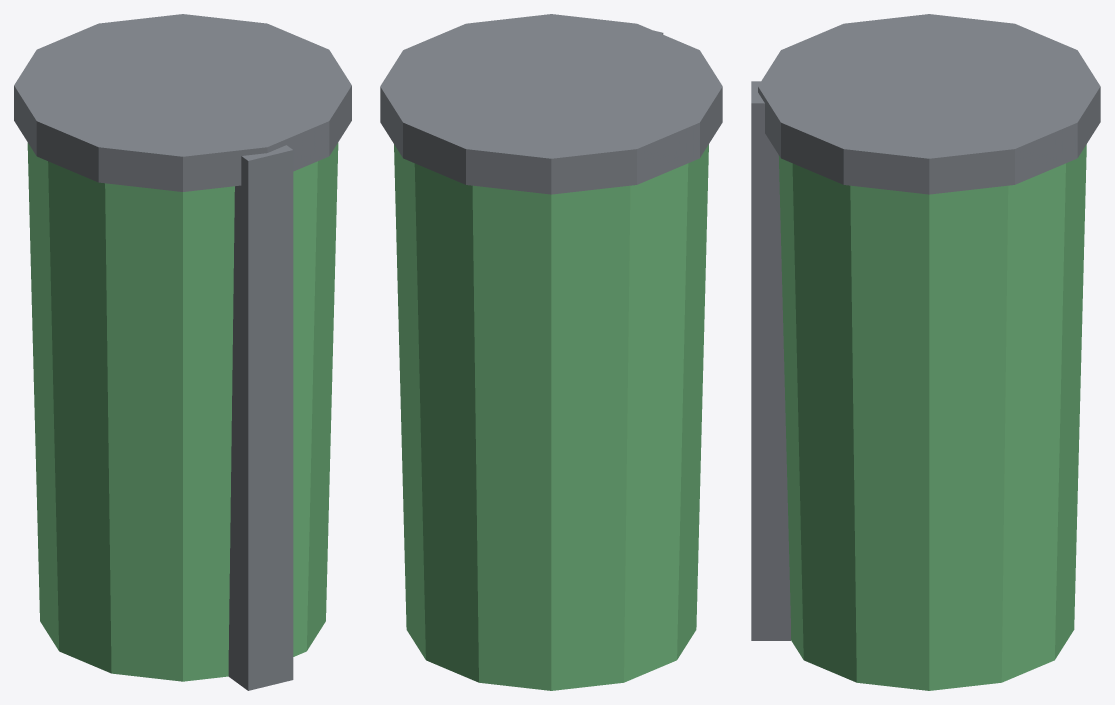
Rendered from public_bin.glb.
3 views of the same model, side by side, from view 1: azimuth 30°, elevation 25°; view 2: azimuth 150°, elevation 25°; view 3: azimuth 270°, elevation 25° (orthographic).
Visible parts, largest first — view 1: public_bin; view 2: public_bin; view 3: public_bin.
Part boxes in pixels (x1,y1,x2,y2): public_bin: (14, 14, 351, 690); public_bin: (380, 14, 722, 690); public_bin: (751, 14, 1100, 690).
Bounding box in the file's own units: 0.52 × 0.91 × 0.53.
